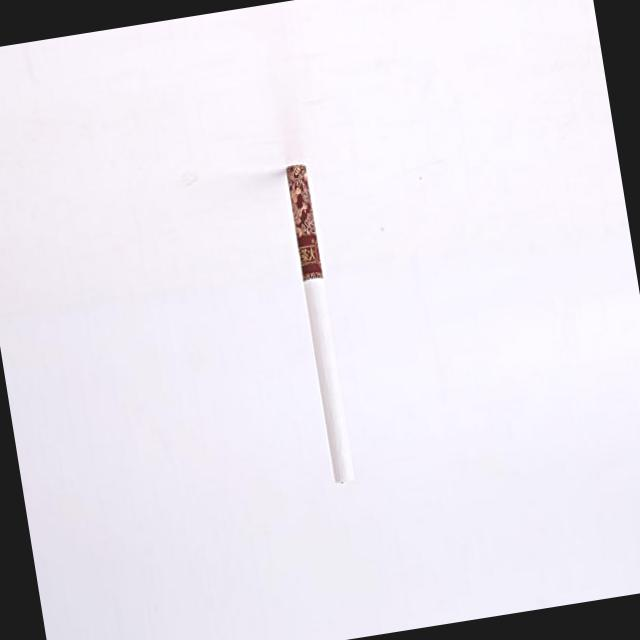smoke: (275, 157, 363, 500)
